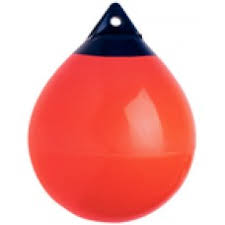buoy: (26, 52, 198, 222)
